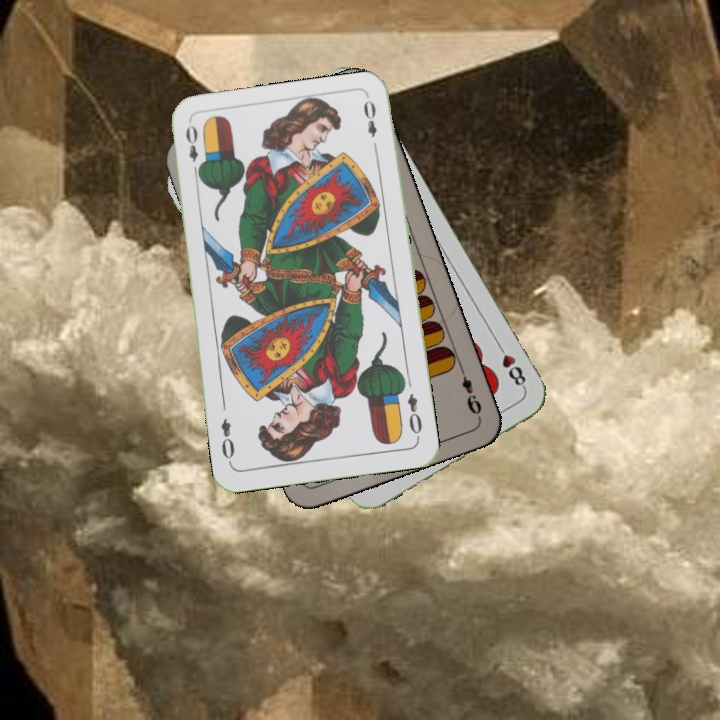E9: (456, 363, 485, 418)
EO: (181, 121, 205, 179), (403, 390, 425, 442)
H8: (492, 338, 529, 392)
